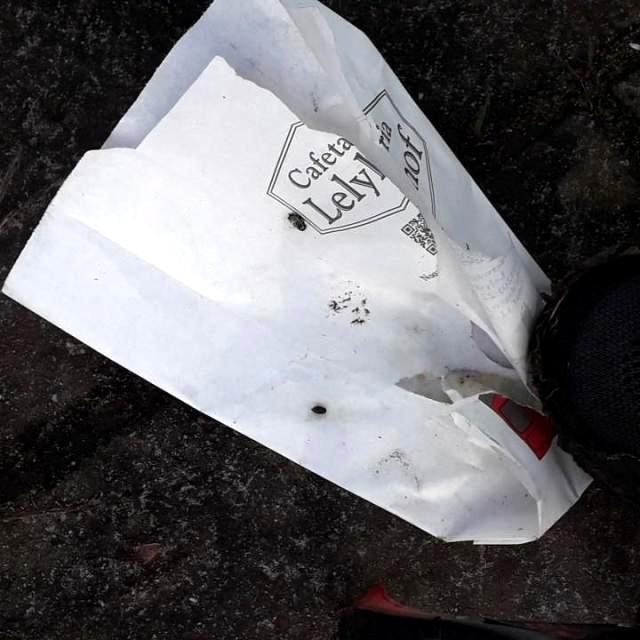Paper: (0, 0, 598, 552)
